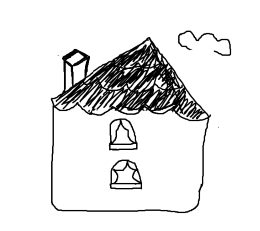chimney: (62, 48, 89, 93)
clouds: (176, 30, 232, 58)
open_window: (105, 114, 143, 154), (108, 157, 145, 194)
shaded_roof: (47, 37, 216, 122)
wall: (47, 101, 210, 216)
